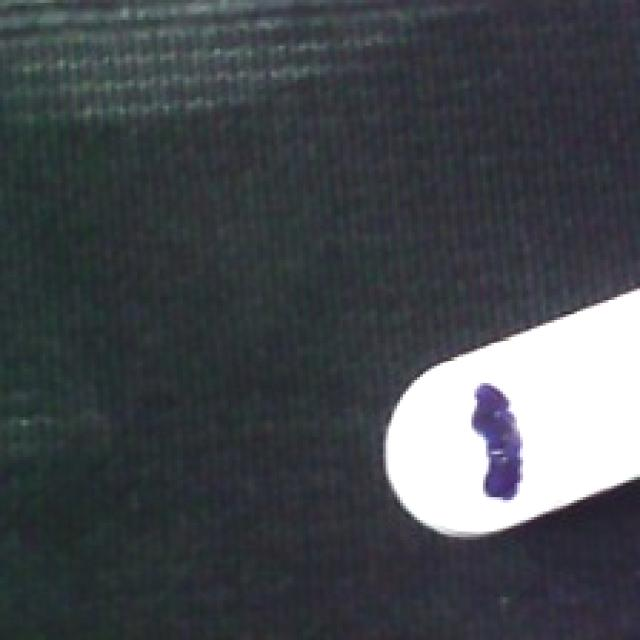defected: (374, 283, 640, 543)
